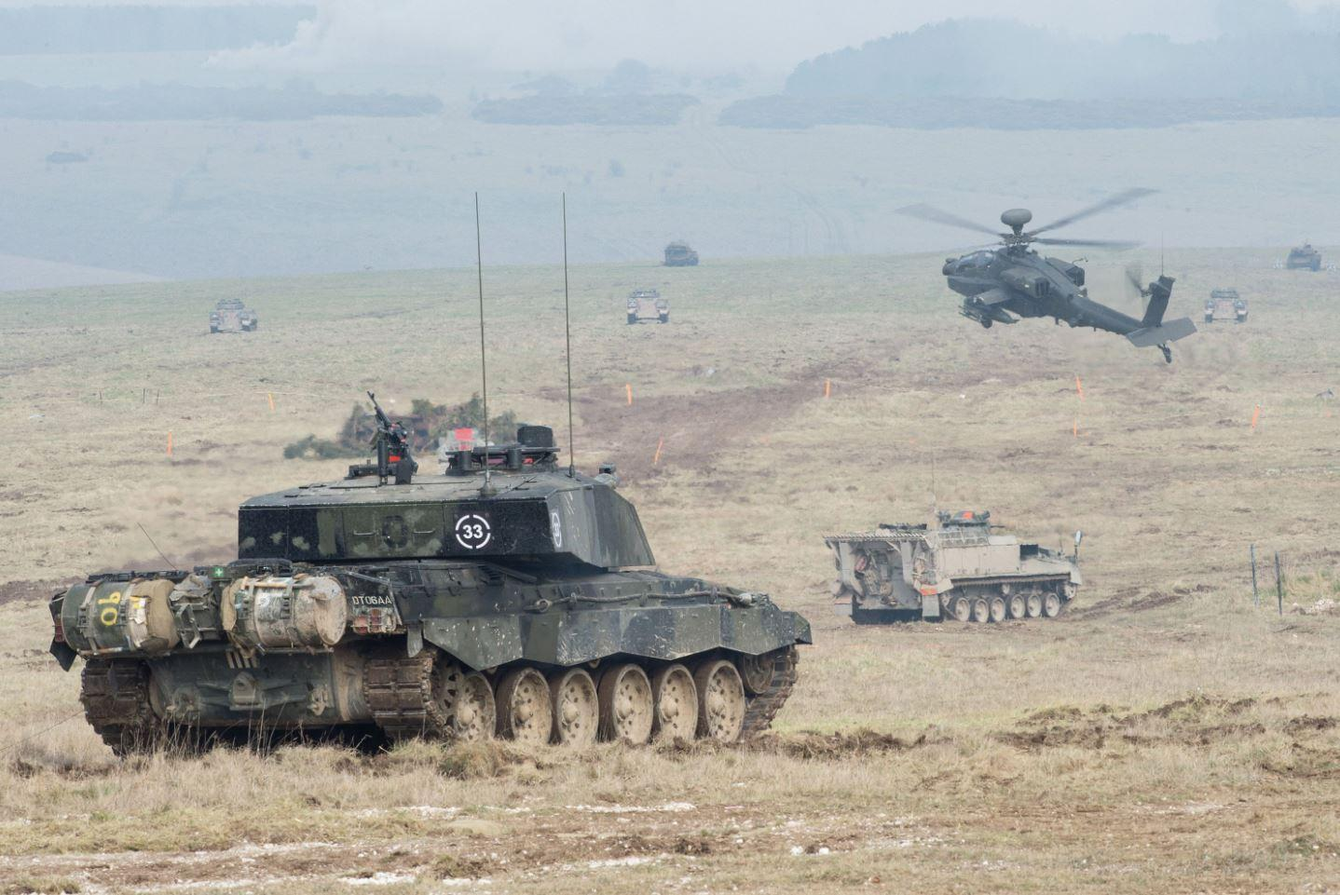tank: (48, 387, 814, 761), (822, 507, 1085, 626), (208, 294, 258, 336), (622, 286, 671, 327), (656, 237, 705, 271), (1205, 286, 1248, 324), (1285, 239, 1323, 274)
